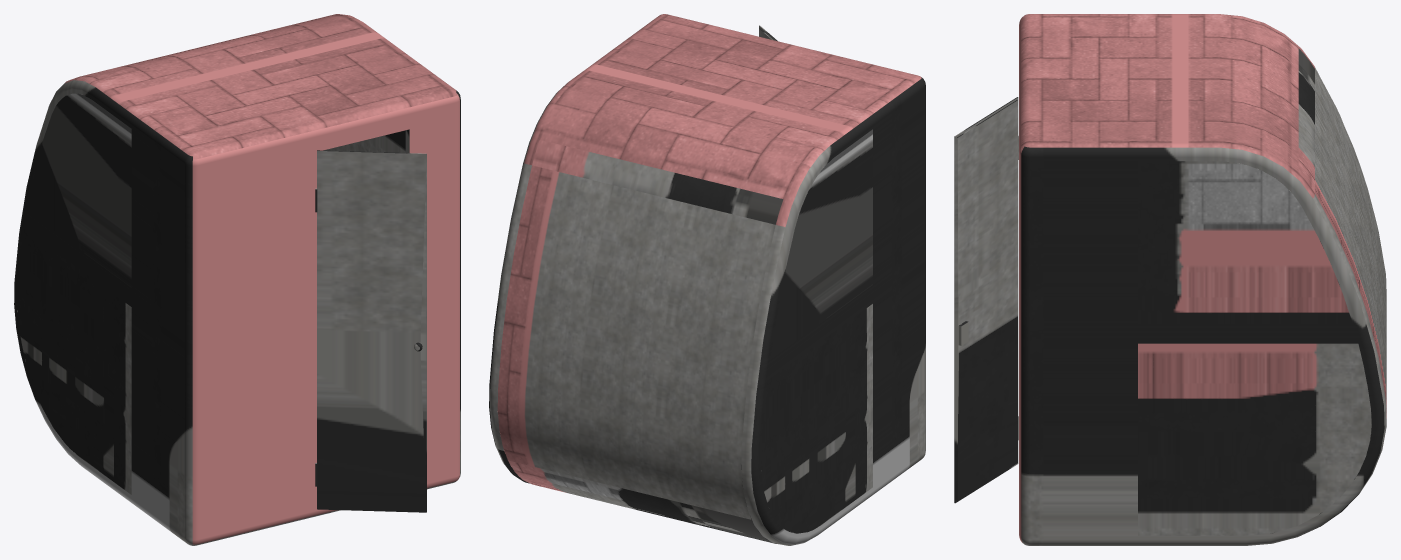
Rendered from Cabin FBX new1.fbx.
3 views of the same model, side by side, from view 1: azimuth 30°, elevation 25°; view 2: azimuth 150°, elevation 25°; view 3: azimuth 270°, elevation 25° (orthographic). The views are drawn at different scales.
Visible parts, largest first — view 1: cabin1; view 2: cabin1; view 3: cabin1.
Boxes of the visible parts, left/top/right/bottom form: cabin1: left=14, top=14, right=460, bottom=545; cabin1: left=489, top=14, right=925, bottom=545; cabin1: left=954, top=14, right=1386, bottom=545.
Bounding box in the file's own units: 165 × 225 × 220.
